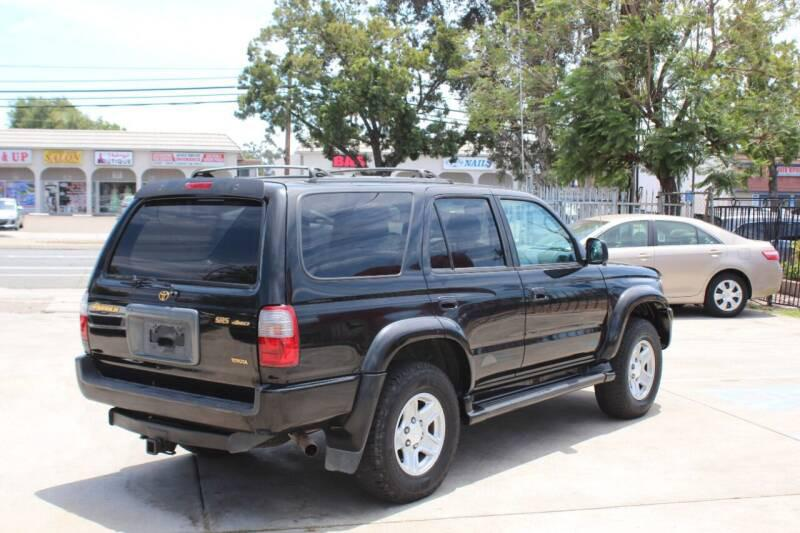car: (66, 170, 678, 505), (541, 209, 787, 319)
